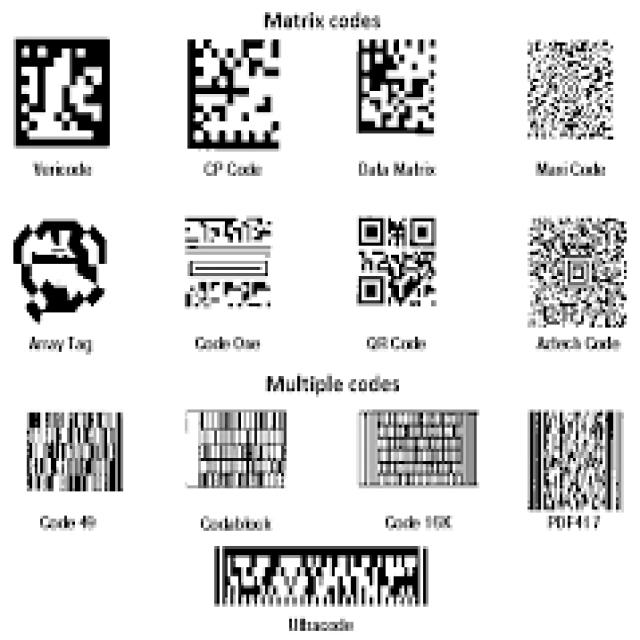datamatrix: (351, 34, 447, 142)
